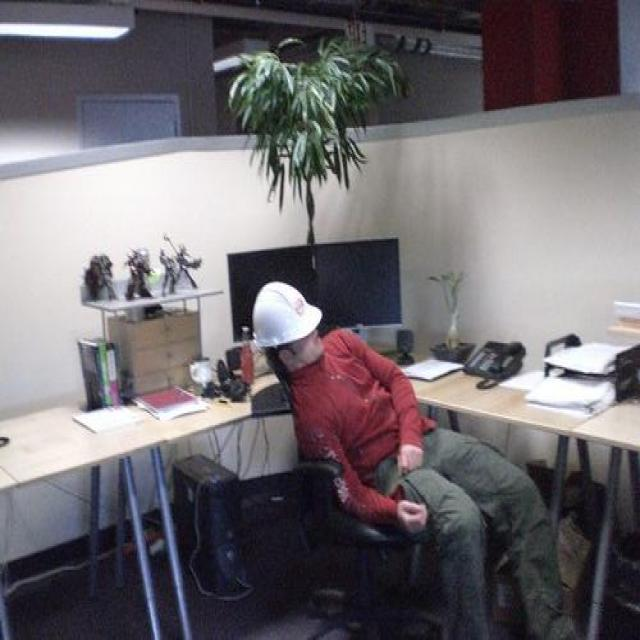Safety-Helmet: (242, 273, 326, 358)
